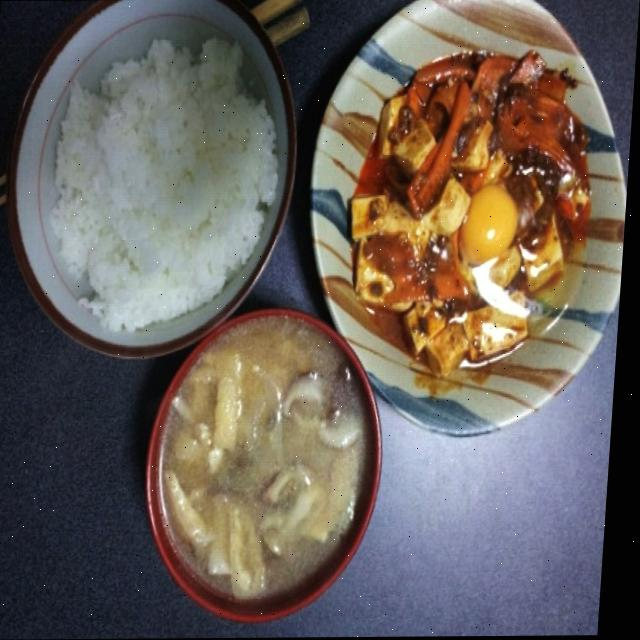米饭主食: (4, 0, 311, 366)
